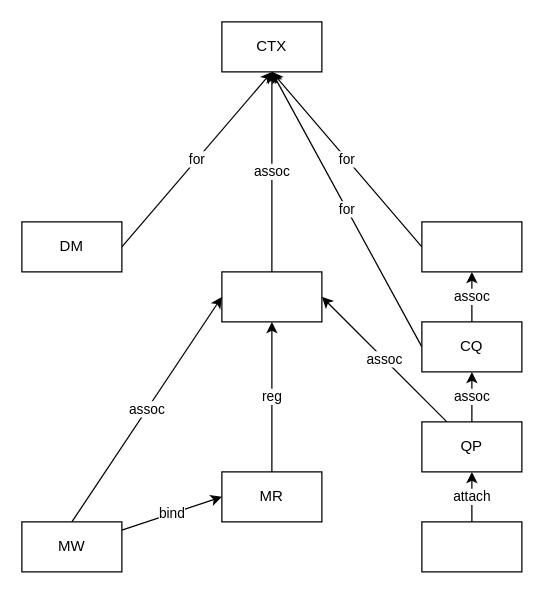
Some shapes in this 544 by 594 pixel diagram are drawn without their labels. Here are the shapes that lost their labels. From the top down, the centre of each, then its label:
(x=471, y=246): CC
(x=271, y=296): PD
(x=471, y=546): MG
